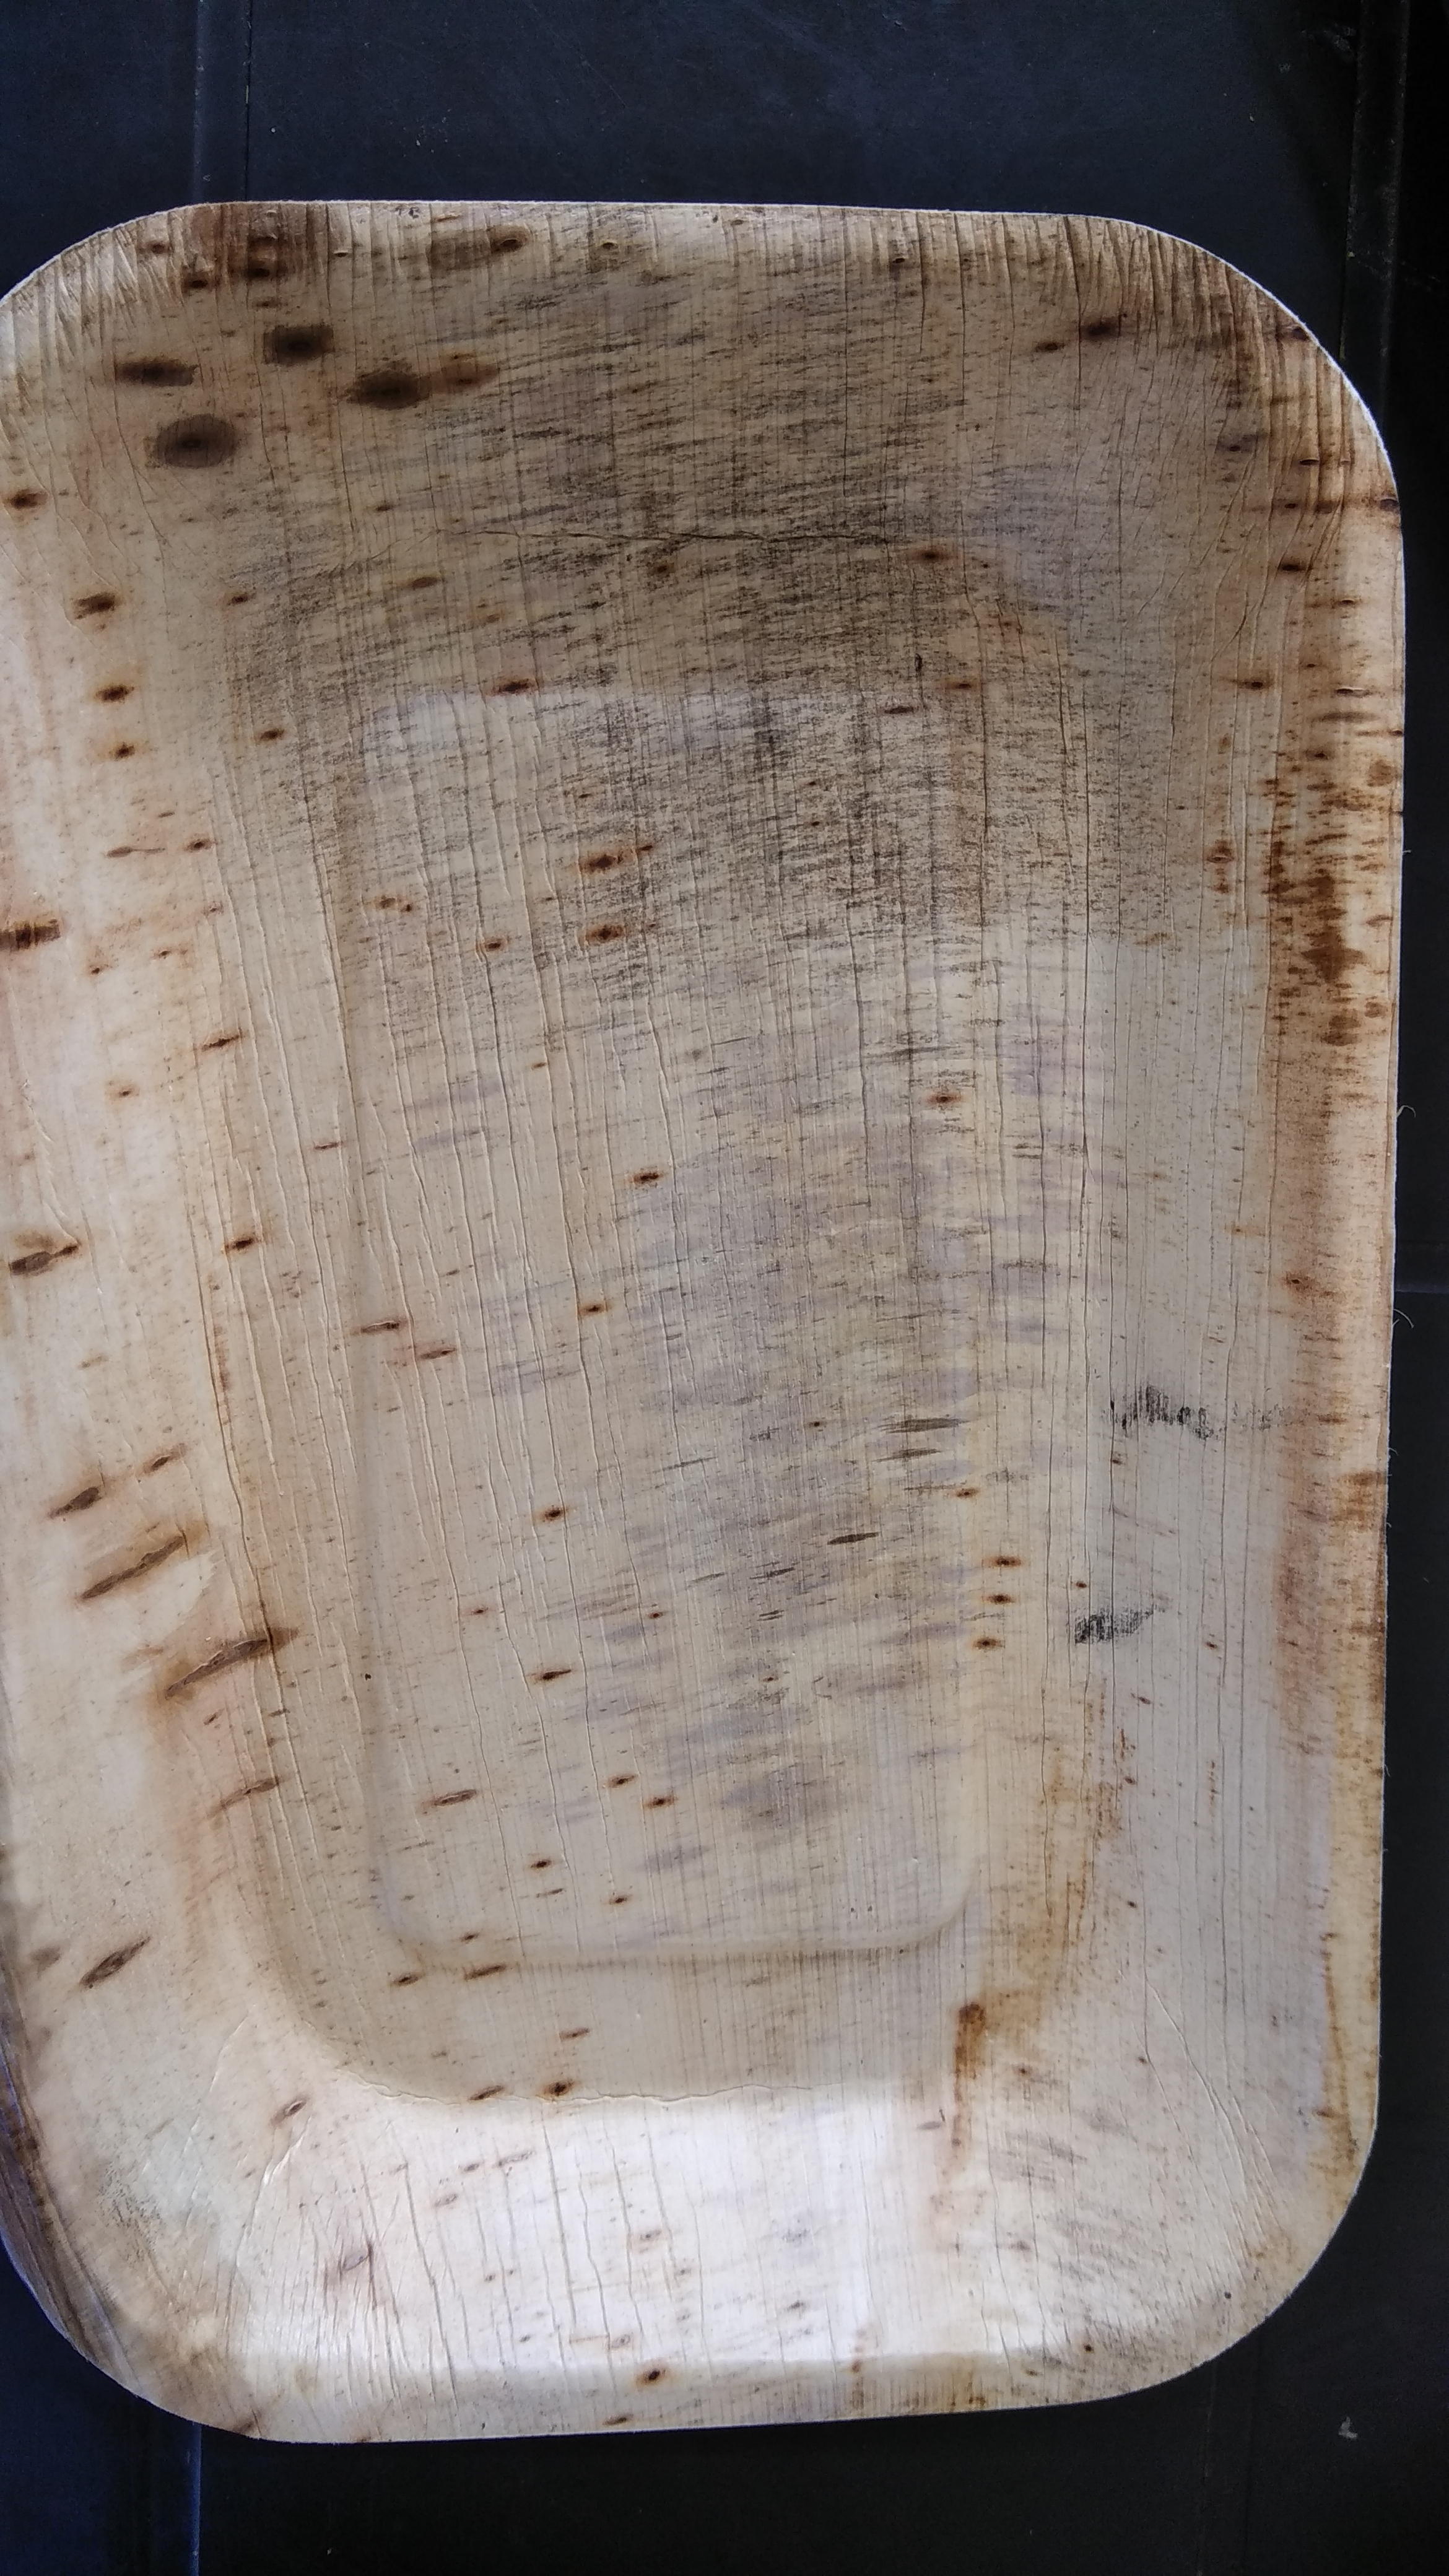plates: (34, 195, 1378, 2378)
